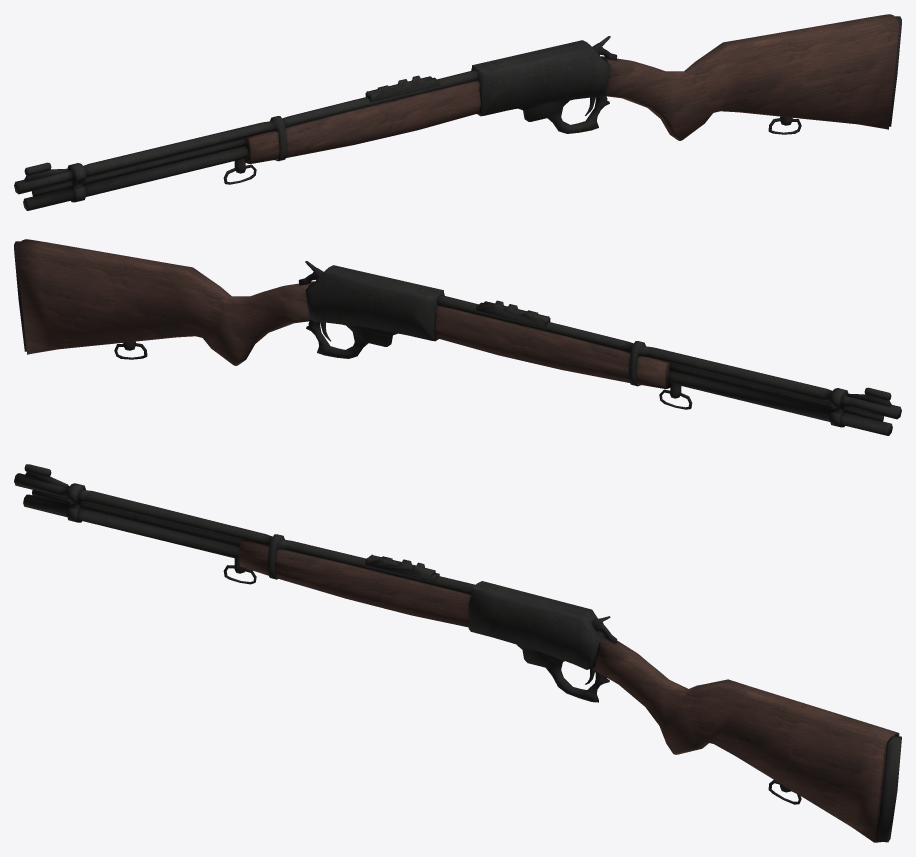
File: hunting-rifle.glb
3 views of the same model, one above another, from view 1: azimuth 30°, elevation 25°; view 2: azimuth 150°, elevation 25°; view 3: azimuth 330°, elevation 25° (orthographic).
Visible parts, largest first — view 1: Hunting Rifle; view 2: Hunting Rifle; view 3: Hunting Rifle.
Boxes of the visible parts, <box> form: Hunting Rifle: <box>14,14,901,210</box>; Hunting Rifle: <box>14,239,901,435</box>; Hunting Rifle: <box>14,464,901,842</box>.
Size of the model in its own units: 1.83 by 0.3338 by 0.0547.
1 material, 1 textured.
